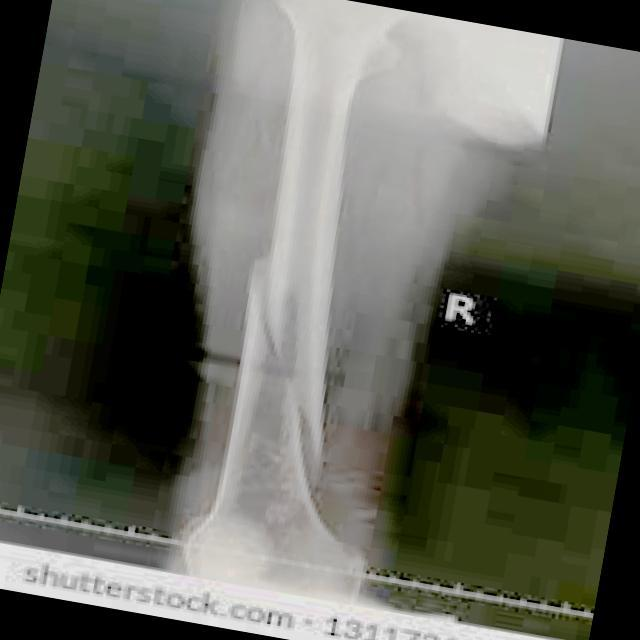Impact Fracture: (244, 255, 331, 491)
